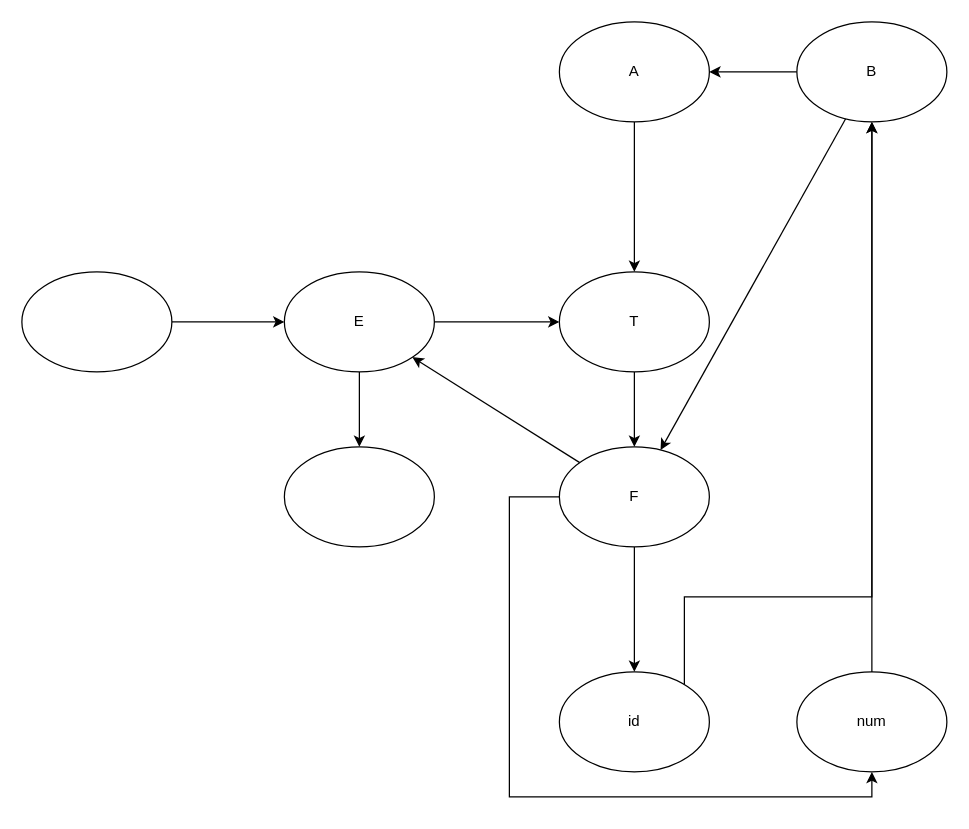
This 969x829 diagram has some shape labels left out. The centre of each missing label's shape, as x and y in pixels:
"END" goes at (358,496).
"START" goes at (96,321).
